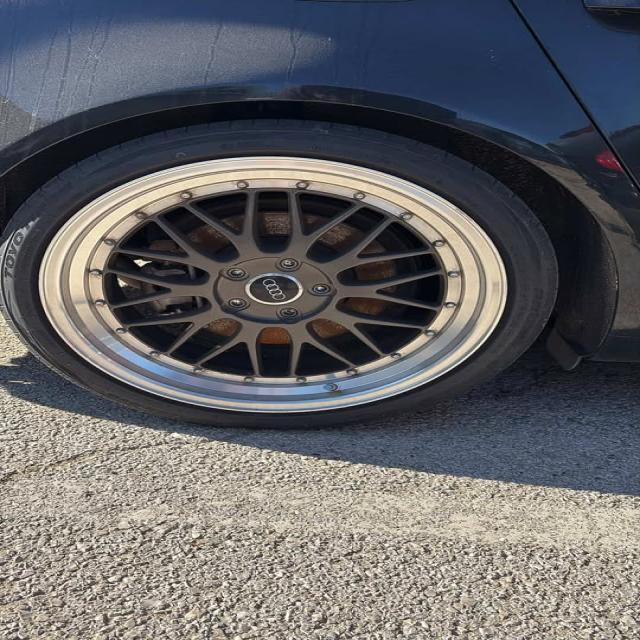jante: (34, 155, 510, 415)
parafuso: (275, 257, 302, 271), (226, 268, 247, 280), (311, 284, 332, 296), (226, 297, 247, 309), (279, 307, 300, 319)
roda: (0, 119, 561, 428)
